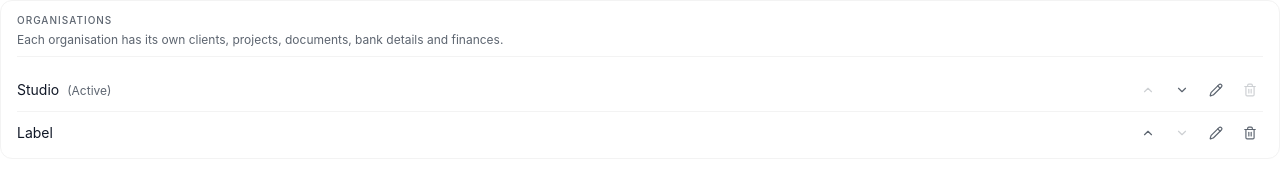
Test: OrganisationsCard › renames inline on Enter
The width and height of the screenshot is (1280, 176).
Click the button named "rename" in the row of "Label": {"x": 1216, "y": 133} [1203,120,1229,146]
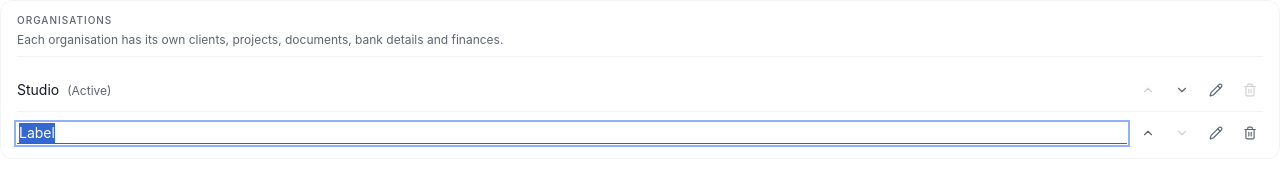
Replace the text in the field showing "Label" with "Music Label": {"x": 572, "y": 133} [17,122,1127,144]
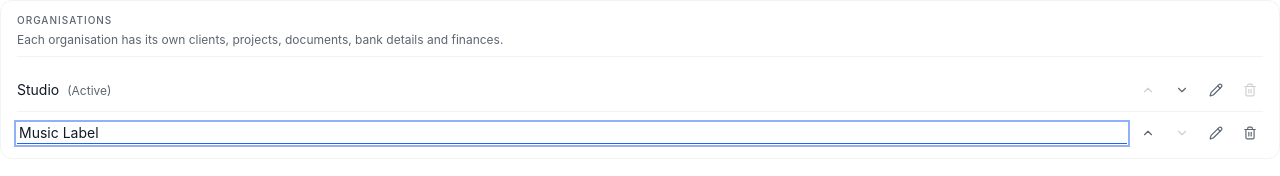
Press Enter in the field showing "Label", box [17,122,1127,144]
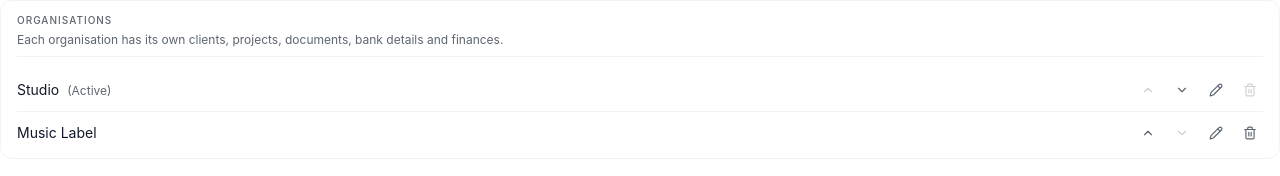
expect the text "Music Label" is shown: met, box [17,124,96,141]
